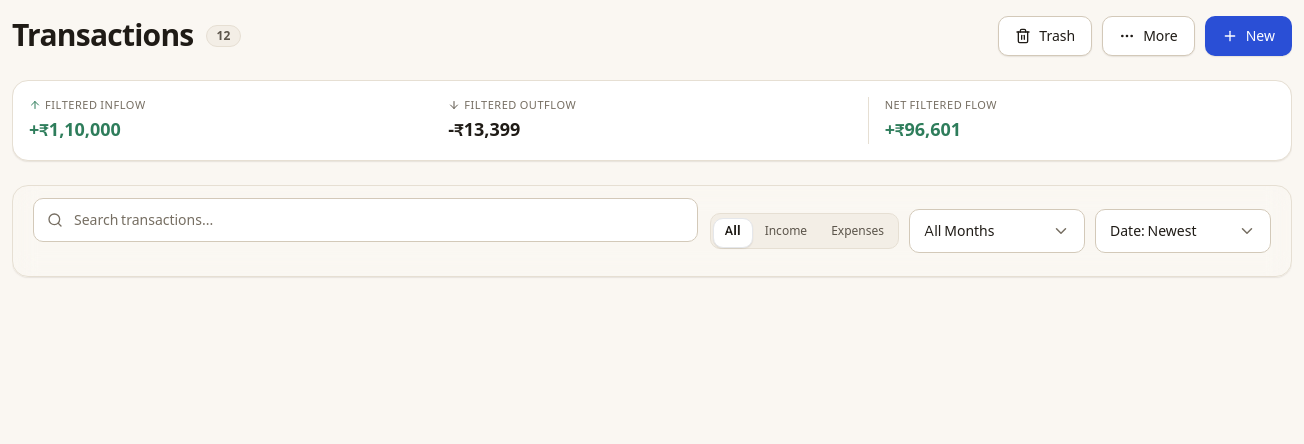
Test case: Phase 5: Transactions Redesign Screen › 1. Filter Bar (sticky, search, segmented control, dropdowns, chips) › debounces search input by 300ms before filtering transactions
Rapid typing burst
In the field with placeholder "Search transactions...": (365, 220) left=33, top=198, right=698, bottom=242, type "E"
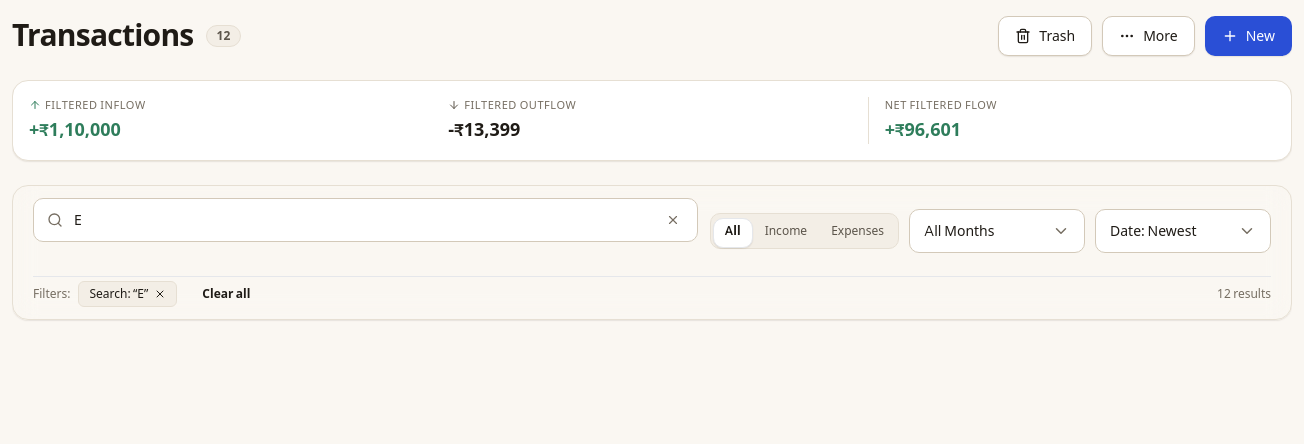
Replace the text in the field with placeholder "Search transactions..." with "El": (365, 220) left=33, top=198, right=698, bottom=242
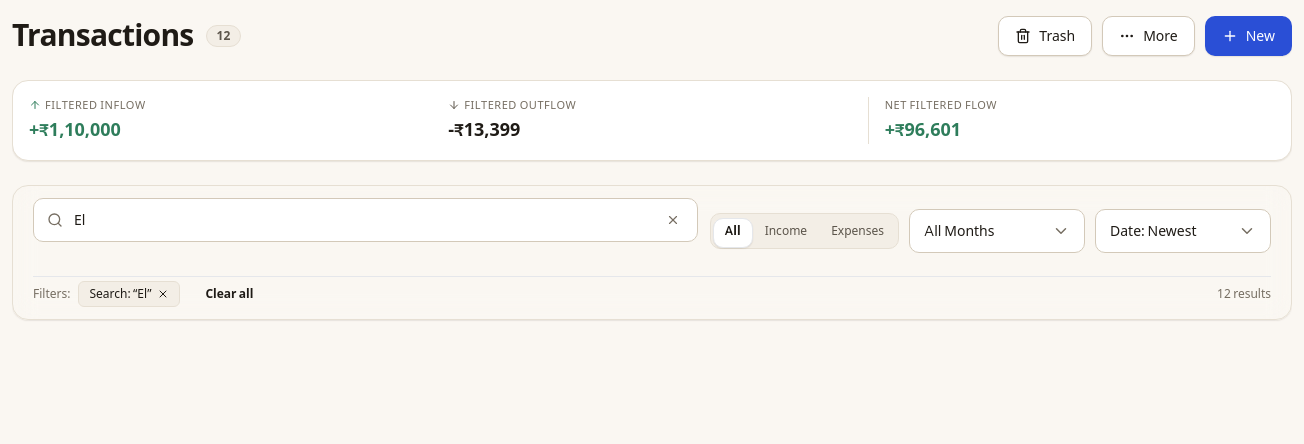
Replace the text in the field with placeholder "Search transactions..." with "Electricity": (365, 220) left=33, top=198, right=698, bottom=242
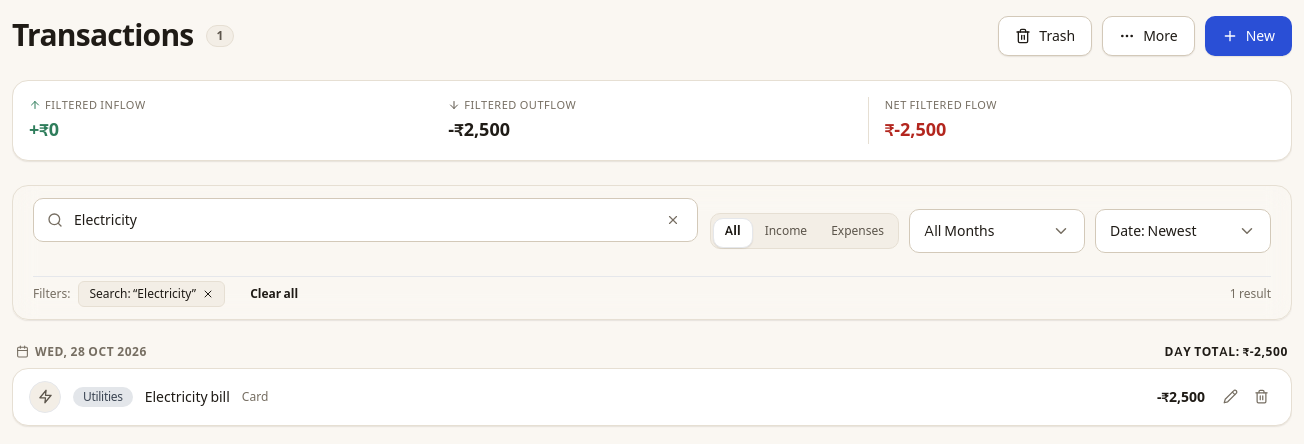
Expected: the text "Search: “Electricity”" is shown, left=90, top=286, right=196, bottom=302
Expected: the text "Electricity bill" is shown, left=145, top=386, right=230, bottom=406
